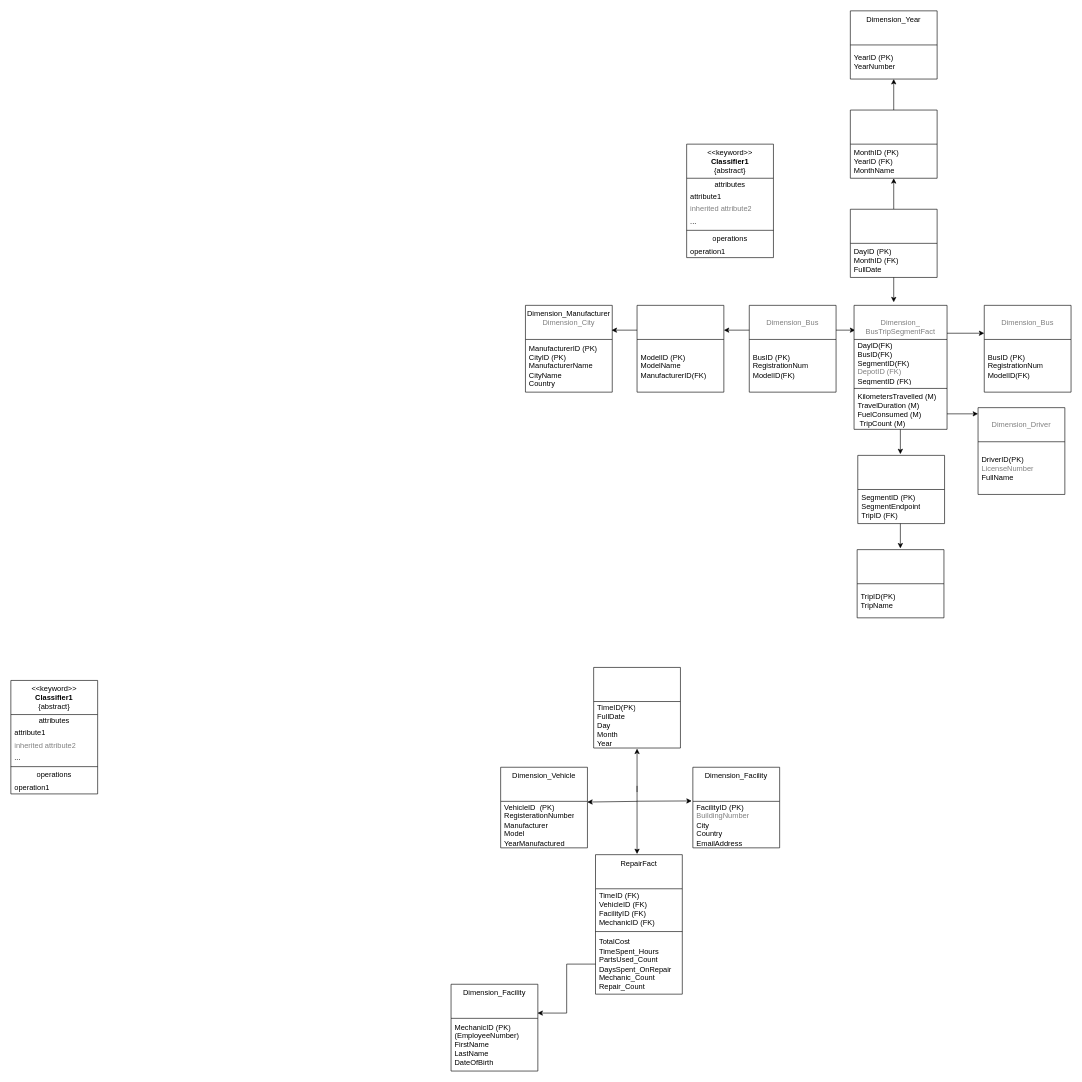
Image size: 1082x1082. Some labels were removed from this diagram. The shapes that lost their labels are listed below. From the top down, each one's box as (x1, y1, x2, y2) in pixels, then its label:
(850, 109, 937, 178): Dimension_Month
(850, 209, 937, 277): Dimension_Day
(636, 305, 724, 392): Dimension_Model
(857, 455, 945, 524): Dimension_Segment
(857, 549, 944, 618): Dimension_Trip
(593, 667, 680, 748): Dimension_Time
